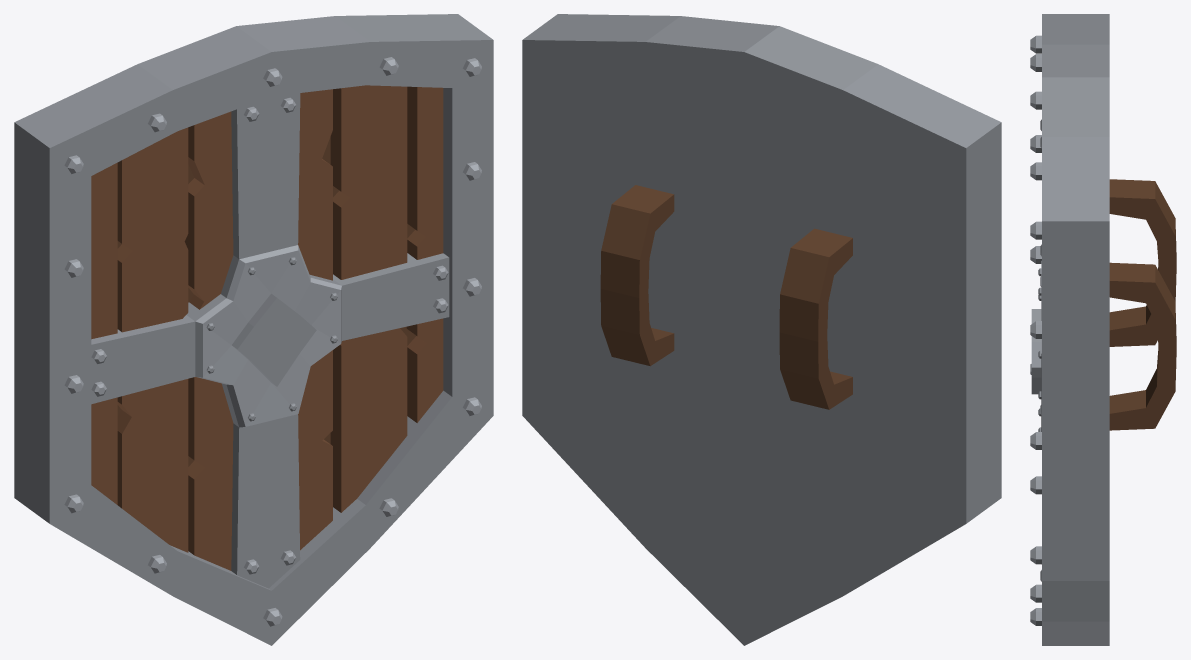
The model's file is Shield_Heater.glb.
The picture shows the model from 3 angles, left to right: view 1: azimuth 30°, elevation 25°; view 2: azimuth 150°, elevation 25°; view 3: azimuth 270°, elevation 25°; orthographic projection. The views are drawn at different scales.
Visible parts, largest first — view 1: Steel, LightWood, LightSteel; view 2: Steel, DarkWood; view 3: Steel, DarkWood, LightSteel.
Part boxes in pixels (<box>): Steel: <box>14,14,493,645</box>; LightWood: <box>91,85,443,570</box>; LightSteel: <box>64,57,481,626</box>; Steel: <box>522,14,1001,645</box>; DarkWood: <box>600,185,852,409</box>; Steel: <box>1031,14,1109,645</box>; DarkWood: <box>1109,179,1176,430</box>; LightSteel: <box>1030,35,1041,625</box>.
Size of the model in its own units: 2.01 by 2.56 by 0.597.
